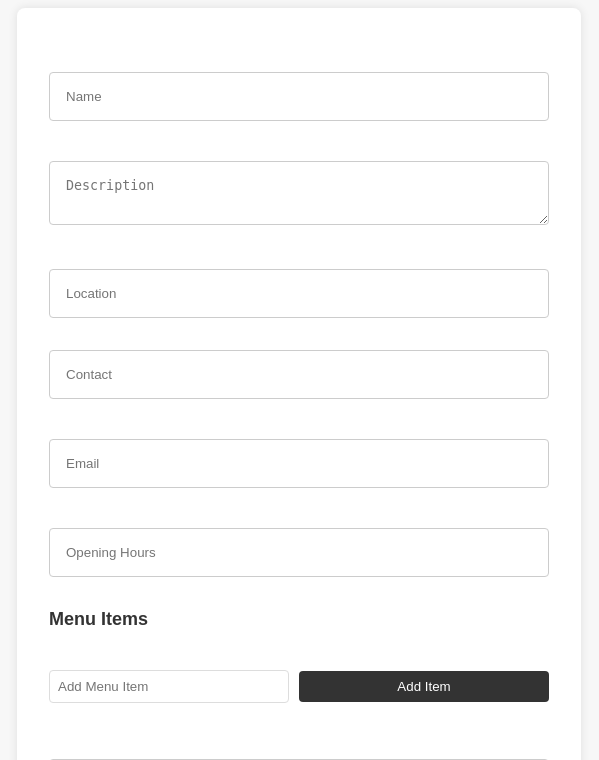
Test: RestaurantForm Component › adds and removes menu items
Type "Dish 3" into the field with placeholder "Add Menu Item".
click(169, 686); type("Dish 3")  # box [49,670,289,703]
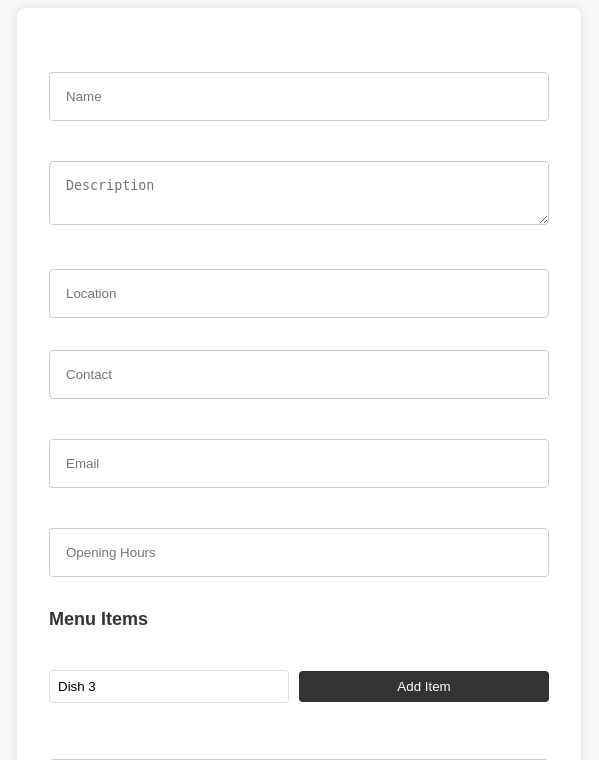
Click the button "Add Item".
click(424, 686)  # box [299,671,549,702]
(page scrolled)
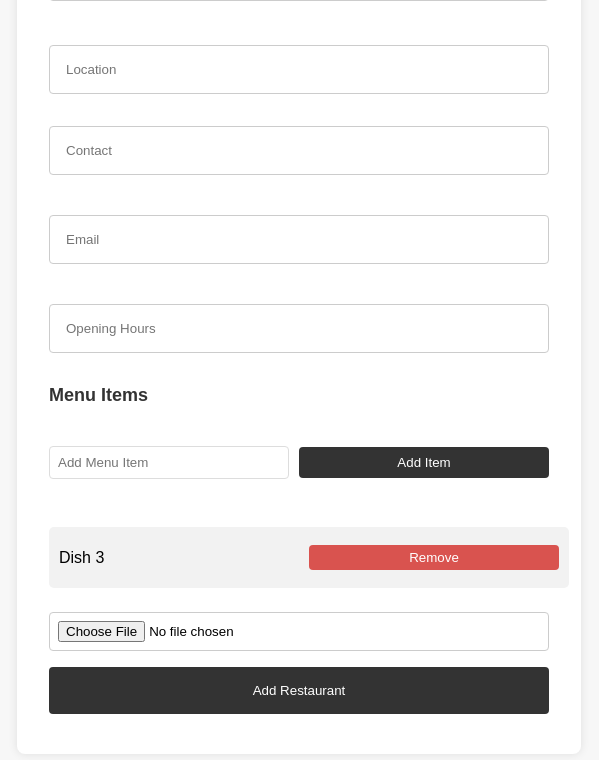
Result: the list item "Dish 3" is shown at [59,548,104,566]
Click the button "Remove".
click(434, 558)  # box [309,545,559,570]
(page scrolled)
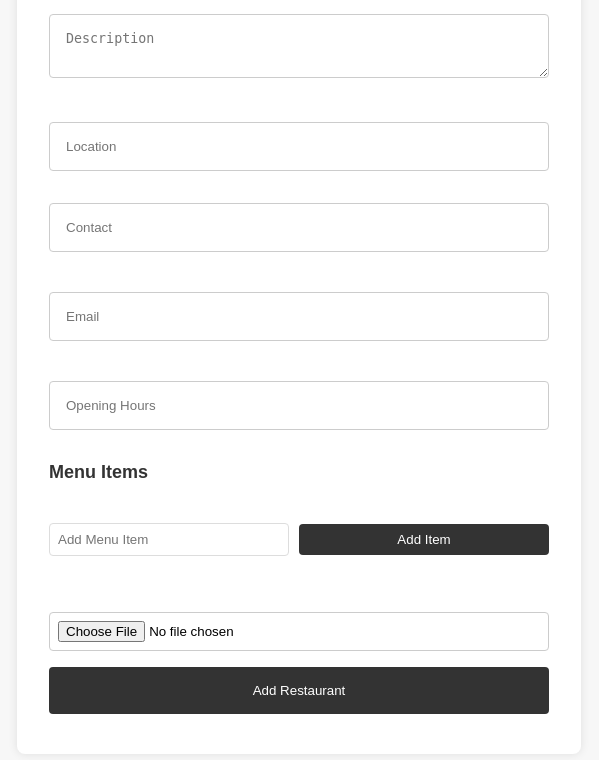
Result: the list item "Dish 3" is gone
